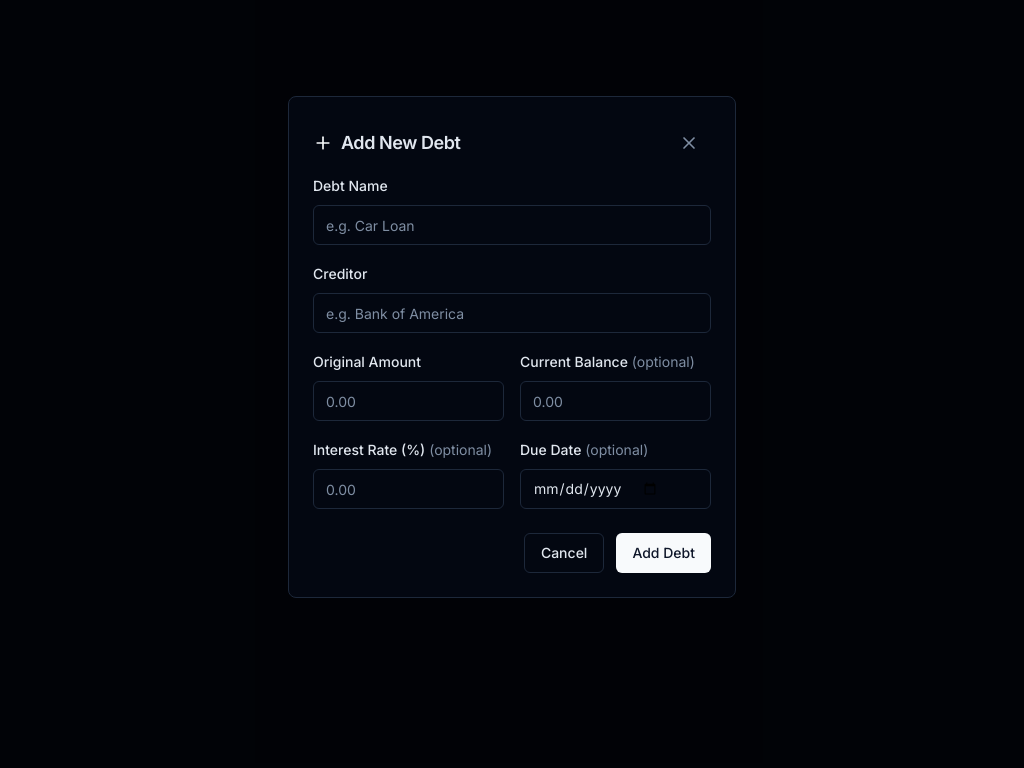
Test: DebtDialog - Add Mode › shows validation error for negative original amount
Type "-100" into the number field labelled "Original Amount" at (408, 401), box [313,381,504,421]
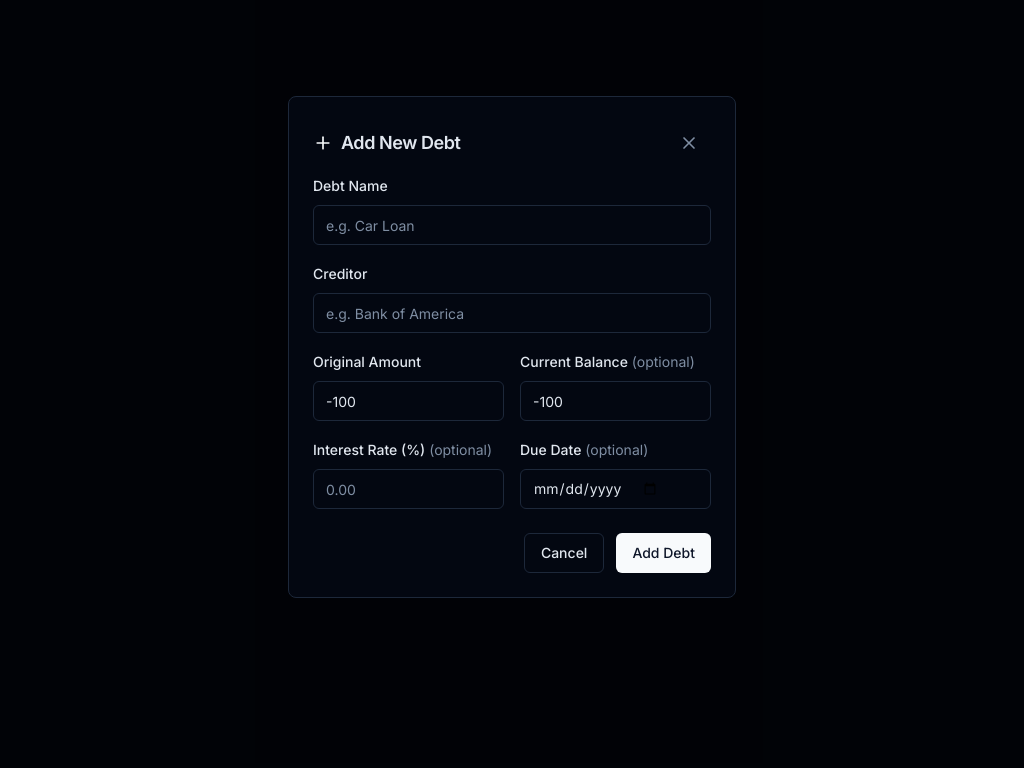
Leave the number field labelled "Original Amount", box [313,381,504,421]
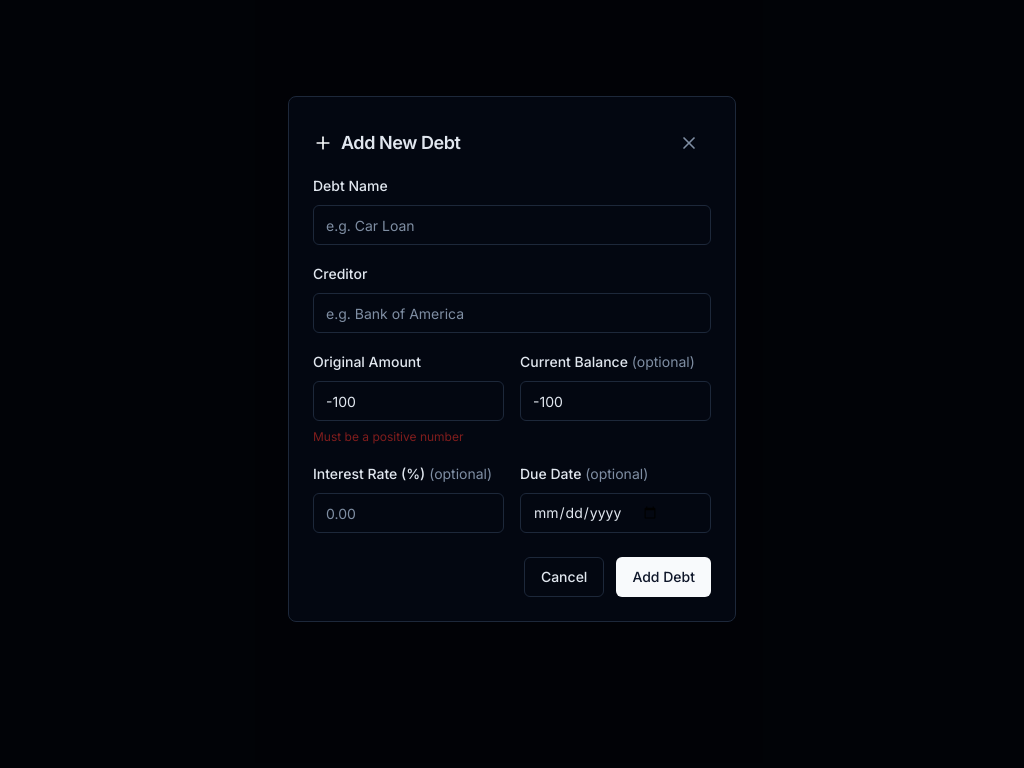
Now the text "Must be a positive number" is shown, box [313,429,464,444]
